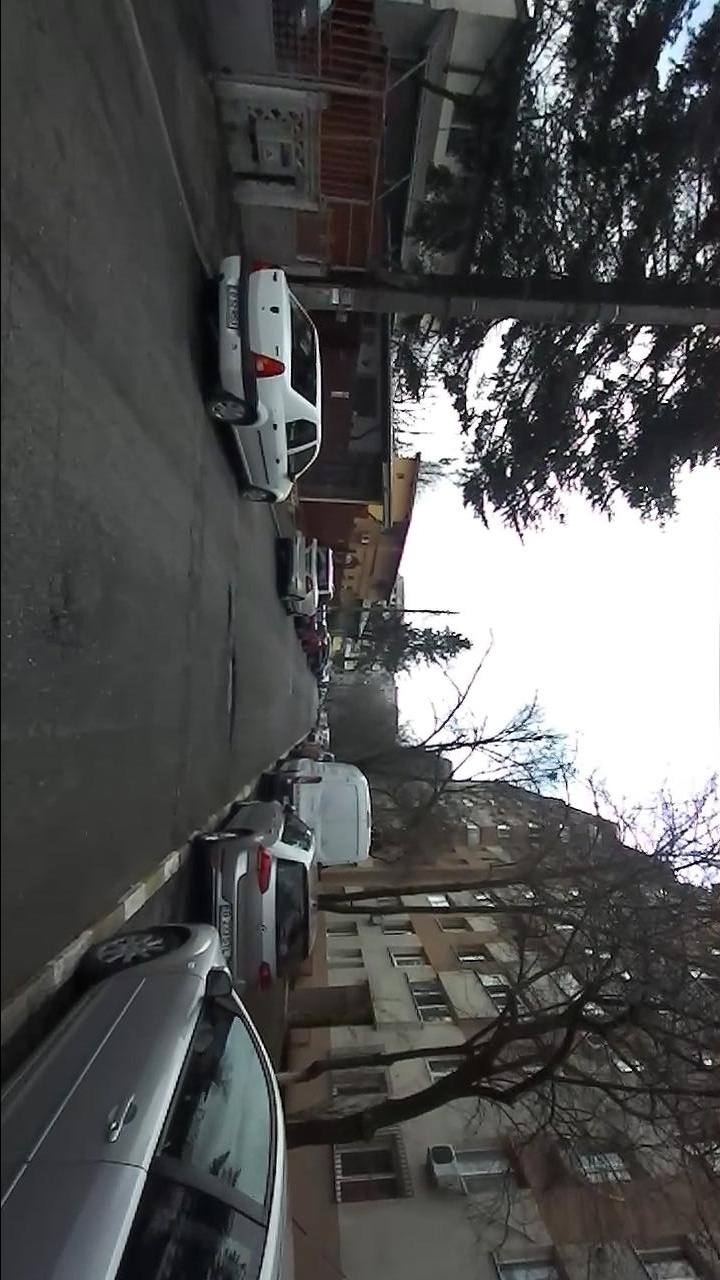pothole: (220, 649, 239, 749), (43, 586, 74, 639), (222, 580, 235, 635)
